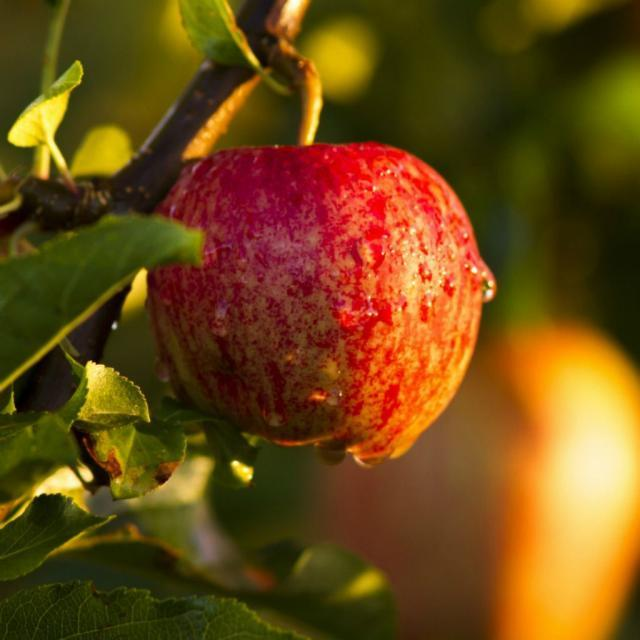Apple: (136, 138, 502, 472)
